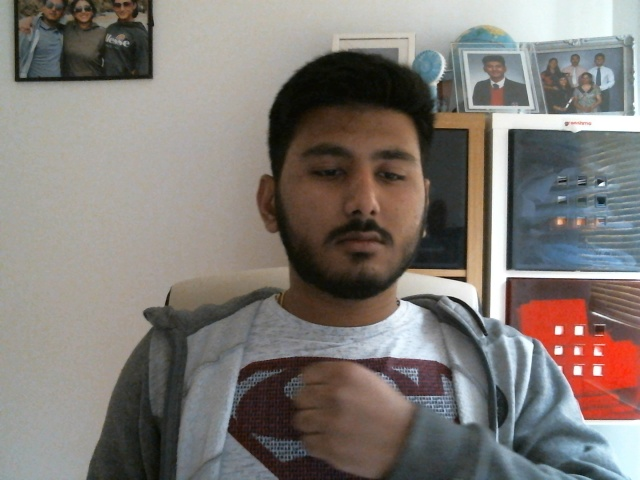morning: (292, 362, 386, 472)
